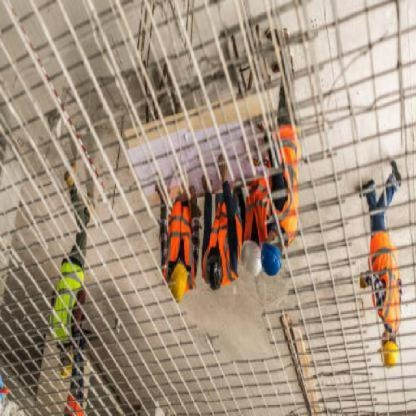blue: (258, 237, 284, 280)
vest: (270, 122, 304, 247), (366, 230, 406, 334), (202, 194, 243, 293), (50, 252, 87, 348), (166, 198, 195, 262), (243, 180, 269, 246)
yellow: (164, 265, 190, 307), (374, 339, 404, 372)
